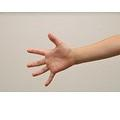pa-: (25, 31, 73, 87)
